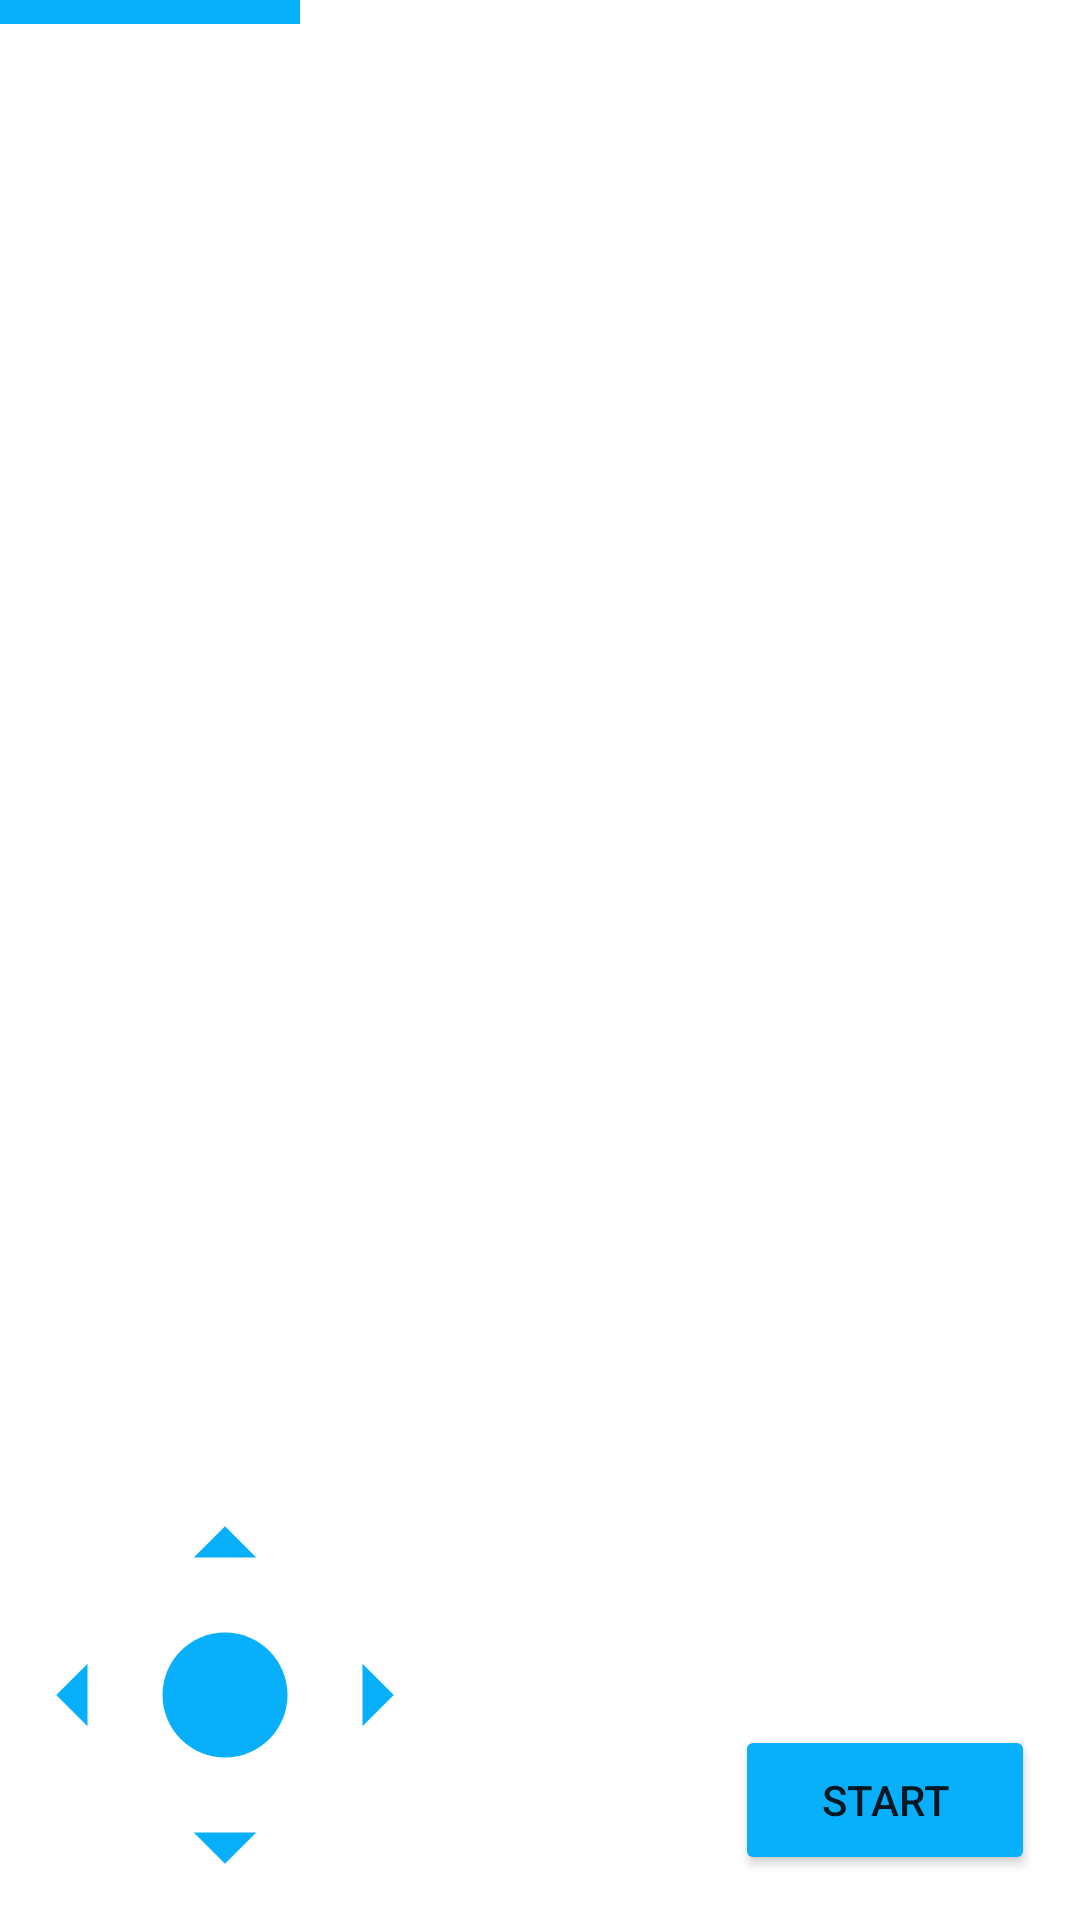

Icon click points for this 1080px×1920px phone screenshot, format [x,y]:
control down: [225,1848]
control left: [72,1695]
control right: [378,1695]
control up: [225,1542]
